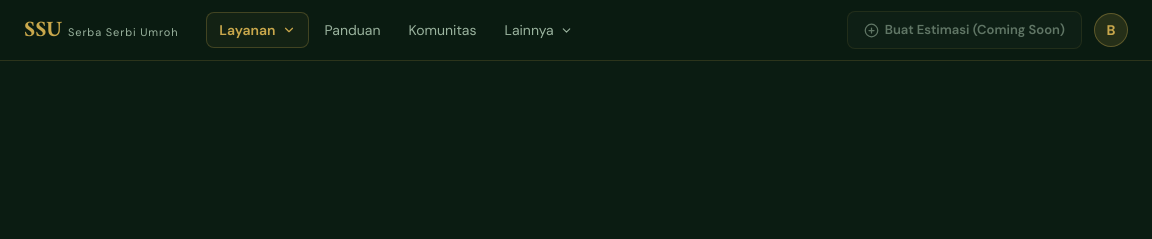
Scenario: NavBar account area › shows the account menu with Dashboard and Keluar for a signed-in user
Click the button named "Menu akun": x=1111, y=30 [1094, 13, 1128, 47]
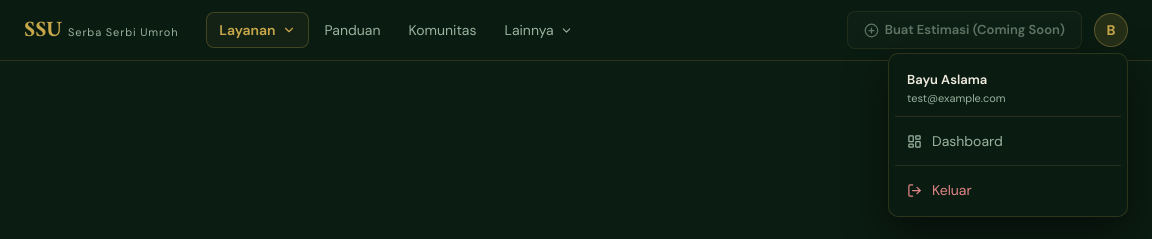
Result: the text "test@example.com" is shown at [907, 90, 1006, 104]
Result: the button "Keluar" is shown at [895, 170, 1121, 210]
